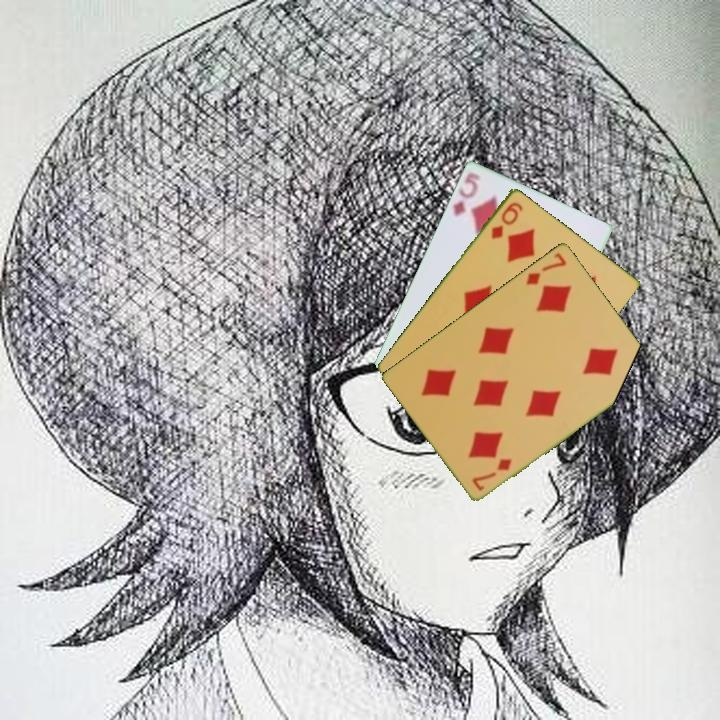5d: (449, 168, 484, 220)
6d: (488, 198, 526, 242)
7d: (522, 248, 569, 288), (469, 454, 515, 493)
